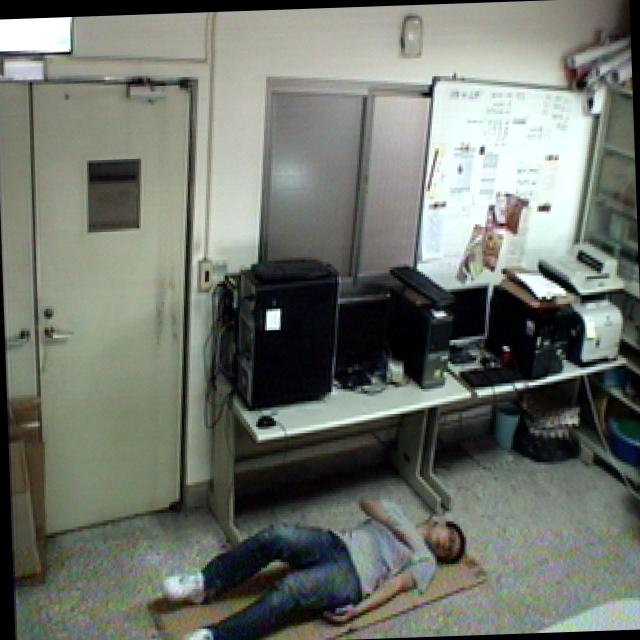lie: (152, 471, 474, 640)
